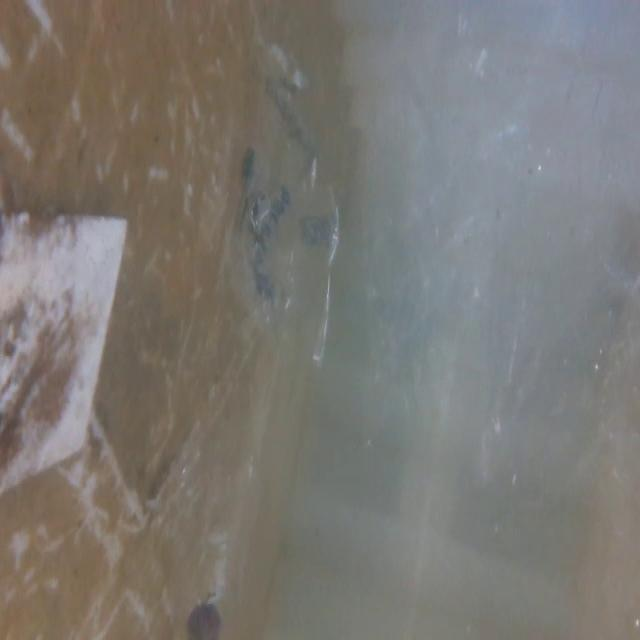metal: (0, 198, 141, 514)
plastic bags: (365, 0, 640, 469), (205, 69, 345, 380)
